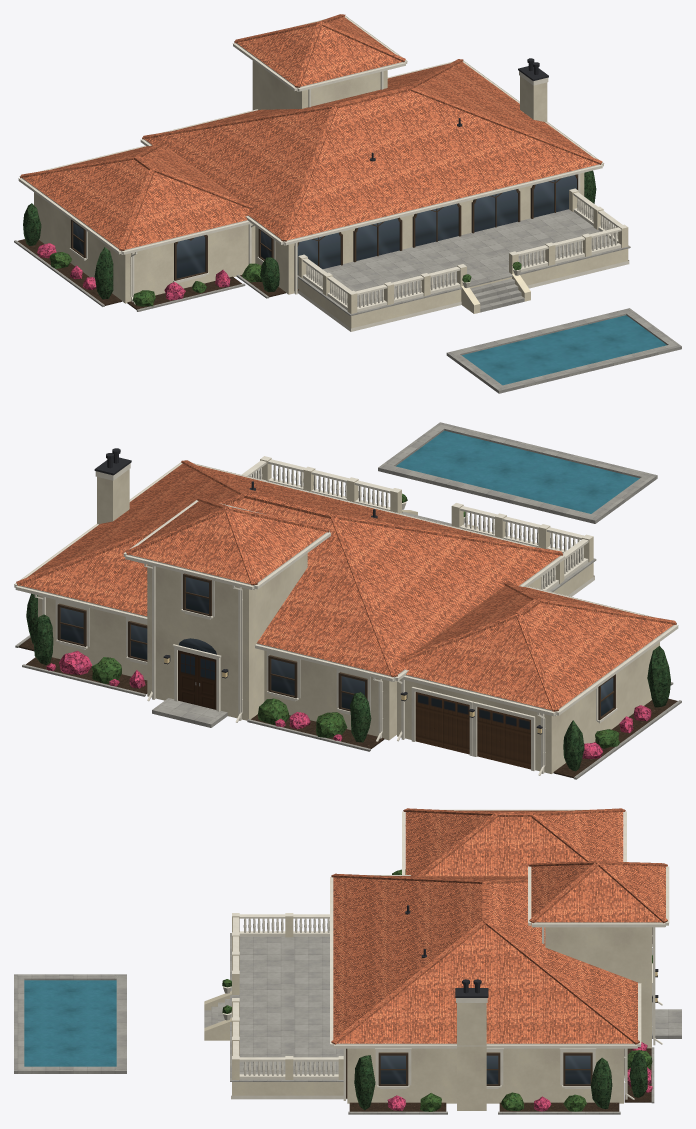
The model's file is med_villa_tower.fbx.
3 renders of one model, top to bottom at view 1: azimuth 30°, elevation 25°; view 2: azimuth 150°, elevation 25°; view 3: azimuth 270°, elevation 25°, orthographic. The views are drawn at different scales.
Parts seen in each view (by area): view 1: med_villa_tower_LOD0; view 2: med_villa_tower_LOD0; view 3: med_villa_tower_LOD0.
Boxes of the visible parts, box(x1,y1,x2,y2) form: med_villa_tower_LOD0: box(14, 14, 681, 393); med_villa_tower_LOD0: box(14, 422, 681, 779); med_villa_tower_LOD0: box(14, 808, 681, 1114).
Size of what is drawn, in the model's own units: 25.34 by 7.85 by 28.96.
2 materials, 2 textured.
